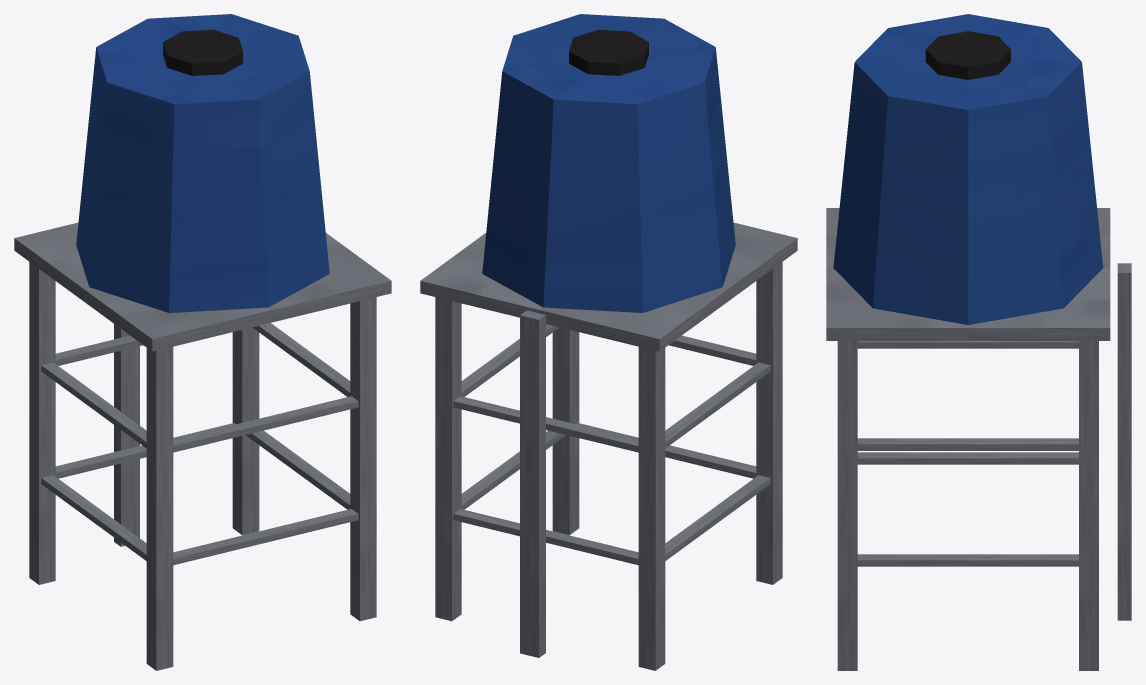
The model's file is tank-cream-far.glb.
3 views of the same model, side by side, from view 1: azimuth 30°, elevation 25°; view 2: azimuth 150°, elevation 25°; view 3: azimuth 270°, elevation 25° (orthographic). The views are drawn at different scales.
Visible parts, largest first — view 1: tank-cream-far; view 2: tank-cream-far; view 3: tank-cream-far.
Part boxes in pixels (x1=…): tank-cream-far: x1=14, y1=14, x2=391, y2=670; tank-cream-far: x1=420, y1=14, x2=797, y2=670; tank-cream-far: x1=826, y1=14, x2=1131, y2=670.
Size of the model in its own units: 2 by 4.4 by 2.15.
Materials: 1 (1 with a texture image).
